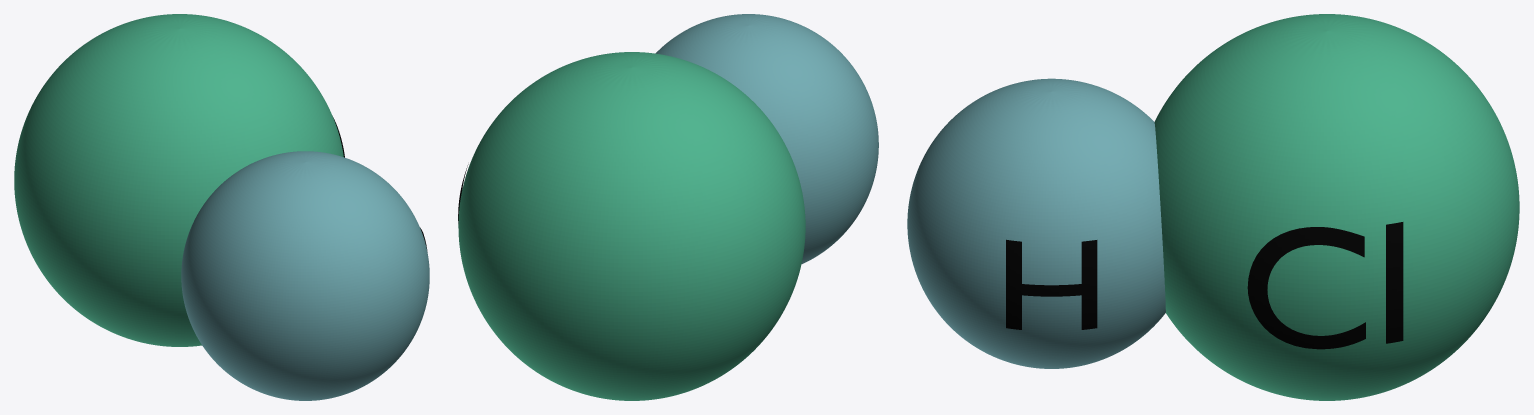
File: Hydrogen Chloride (HCl) - Copy.fbx
3 renders of one model, left to right at view 1: azimuth 30°, elevation 25°; view 2: azimuth 150°, elevation 25°; view 3: azimuth 270°, elevation 25°, orthographic. The views are drawn at different scales.
Visible parts, largest first — view 1: Sphere.012, Sphere.011; view 2: Sphere.012, Sphere.011; view 3: Sphere.012, Sphere.011, Text.012, Text.011.
Part boxes in pixels (left/top/right/bottom): Sphere.012: left=14, top=14, right=343, bottom=346; Sphere.011: left=181, top=151, right=429, bottom=400; Sphere.012: left=458, top=52, right=805, bottom=400; Sphere.011: left=655, top=14, right=878, bottom=263; Sphere.012: left=1154, top=14, right=1519, bottom=400; Sphere.011: left=907, top=78, right=1165, bottom=368; Text.012: left=1247, top=222, right=1403, bottom=349; Text.011: left=1006, top=239, right=1097, bottom=329.
Bounding box in the file's own units: 197 × 200 × 314.
